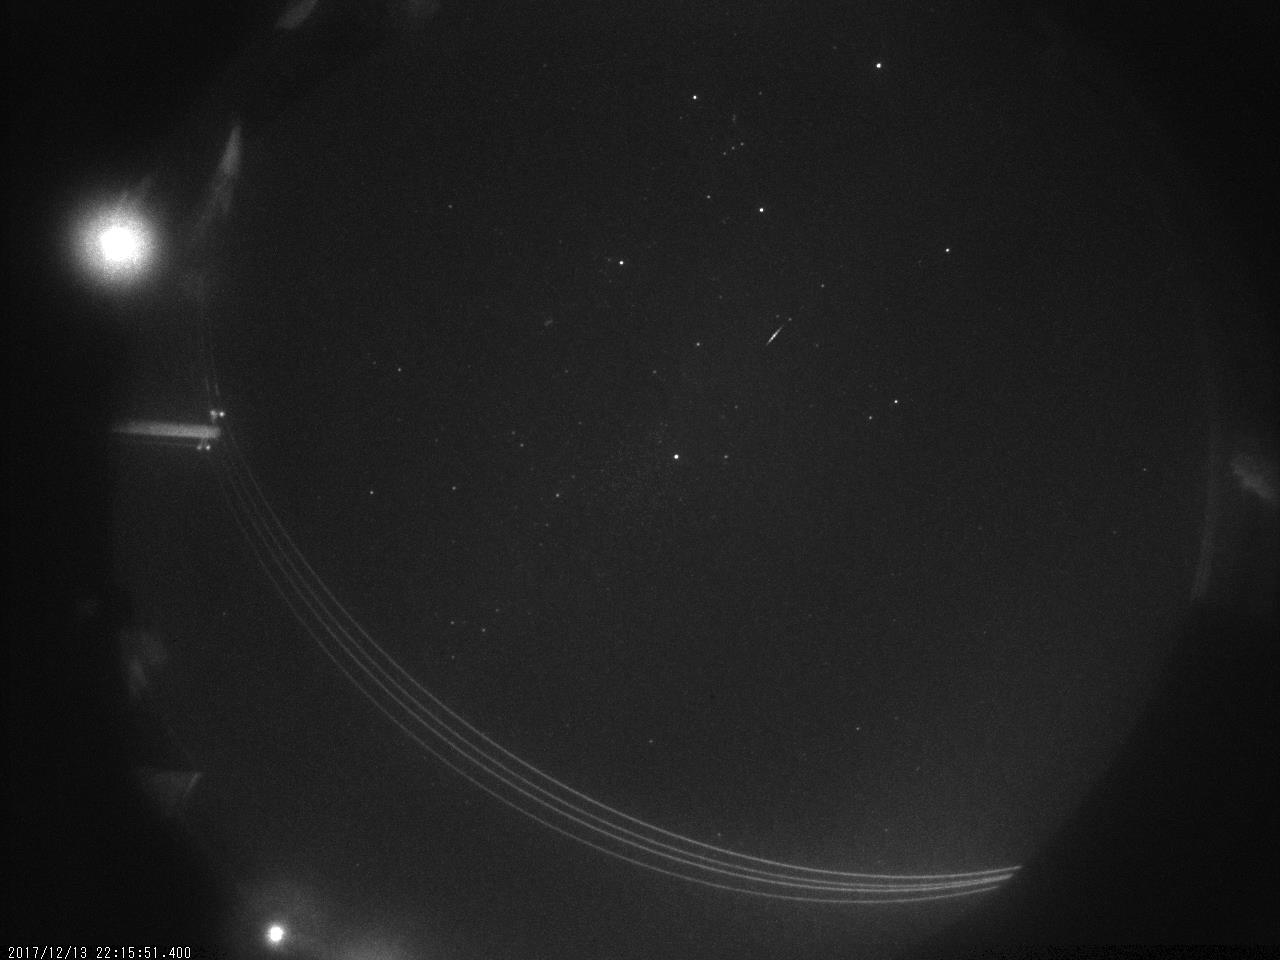meteor: (747, 321, 801, 353)
